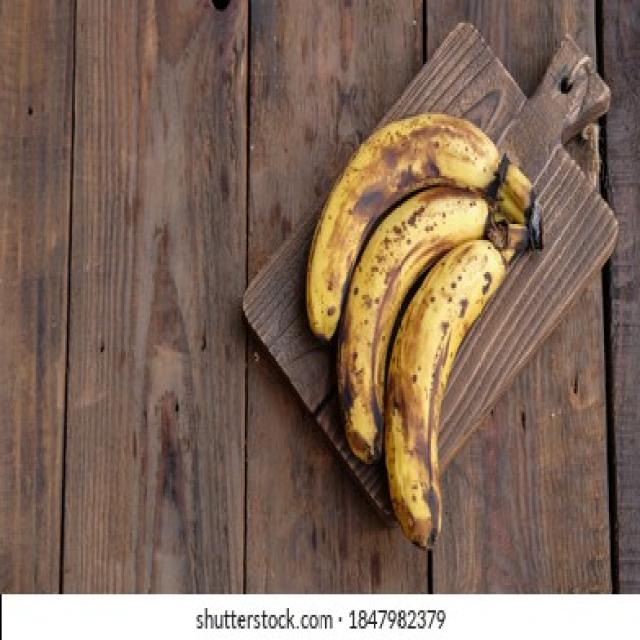banana: (302, 102, 547, 560)
